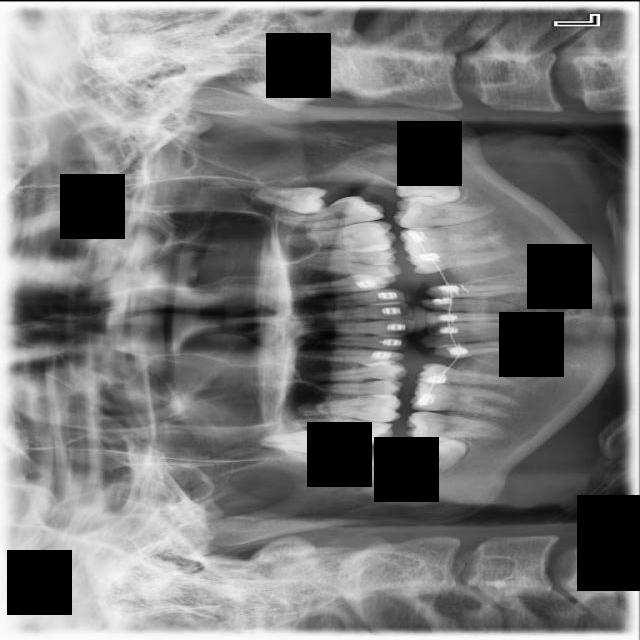3M ESPE Implant: (258, 427, 337, 453)
73: (622, 6, 626, 16)
BioHorizons Implant: (271, 191, 384, 235)
BioLife Implant: (254, 184, 328, 214)
Biomet 3i Implant: (395, 161, 463, 207)
Blue Sky Bio Implant: (391, 193, 499, 229)
Caries: (293, 410, 394, 448)
Implant: (406, 410, 510, 443)
Keystone Dental Implant: (404, 430, 471, 477)
